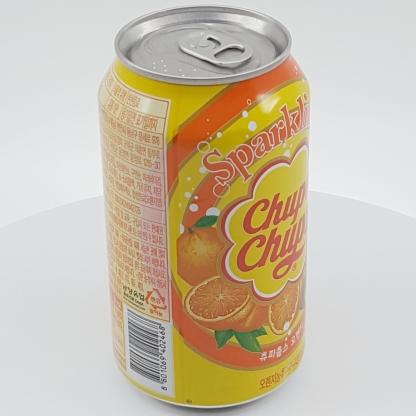----------345ML: (97, 4, 311, 409)
